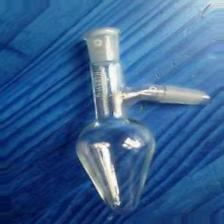Pear shaped flask: (75, 12, 207, 207)
